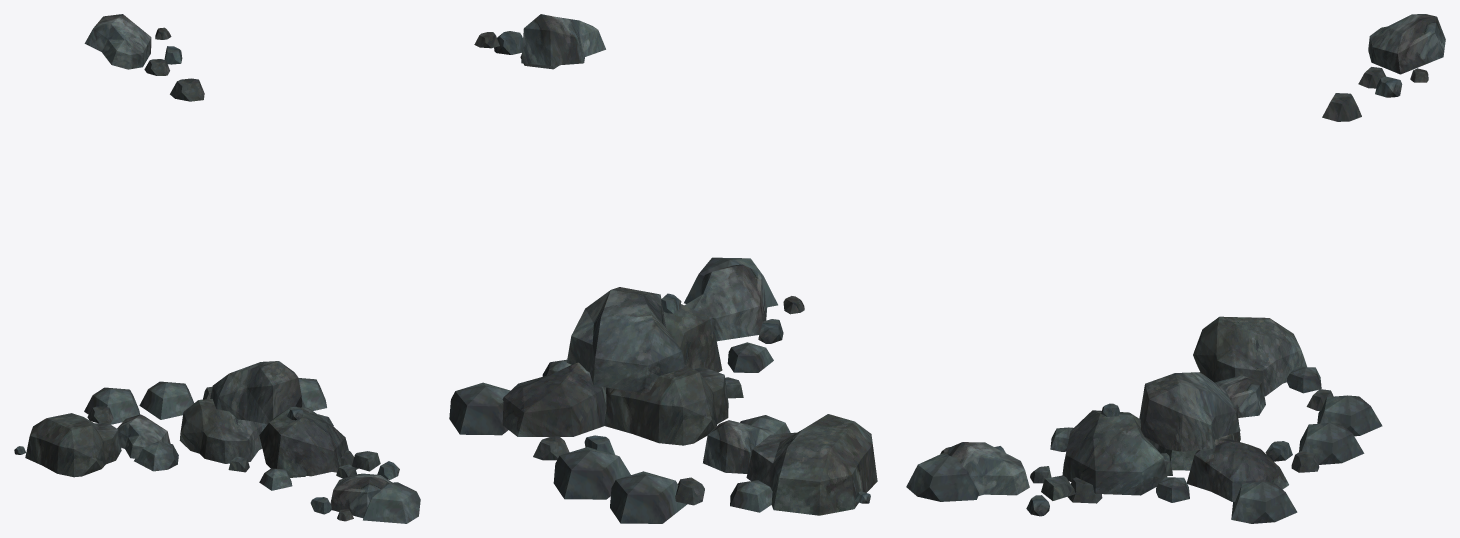
File: object_rubble40.fbx
3 renders of one model, left to right at view 1: azimuth 30°, elevation 25°; view 2: azimuth 150°, elevation 25°; view 3: azimuth 270°, elevation 25°, orthographic. The views are drawn at different scales.
Visible parts, largest first — view 1: obj0.111; view 2: obj0.111; view 3: obj0.111.
Part boxes in pixels (left/top/right/bottom): obj0.111: left=14, top=14, right=420, bottom=523; obj0.111: left=449, top=14, right=877, bottom=523; obj0.111: left=906, top=14, right=1445, bottom=523.
Size of the model in its own units: 7.2 by 8.39 by 9.5.
